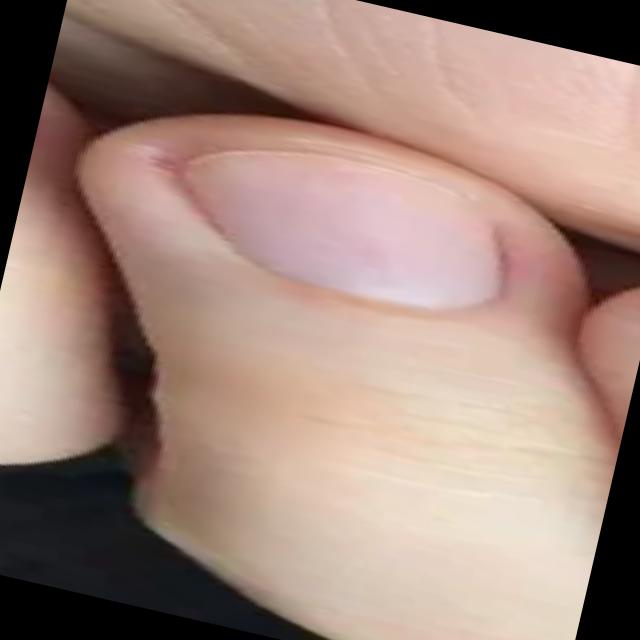Nail: (184, 149, 495, 308)
